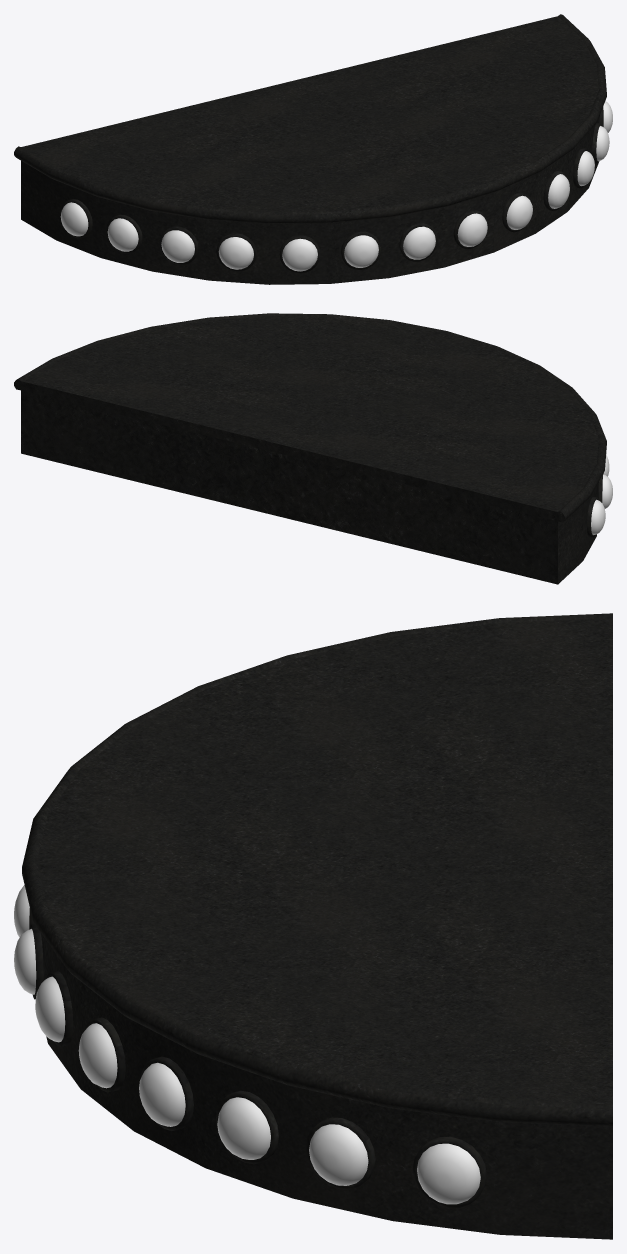
Rendered from Stage Half Black.fbx.
3 renders of one model, top to bottom at view 1: azimuth 30°, elevation 25°; view 2: azimuth 150°, elevation 25°; view 3: azimuth 270°, elevation 25°, orthographic. The views are drawn at different scales.
Visible parts, largest first — view 1: Circle; view 2: Circle; view 3: Circle.
Part boxes in pixels (box(x1,y1,x2,y2)): Circle: box(14, 14, 612, 284); Circle: box(14, 313, 612, 584); Circle: box(14, 613, 612, 1239).
Bounding box in the file's own units: 283 × 36.21 × 143.
